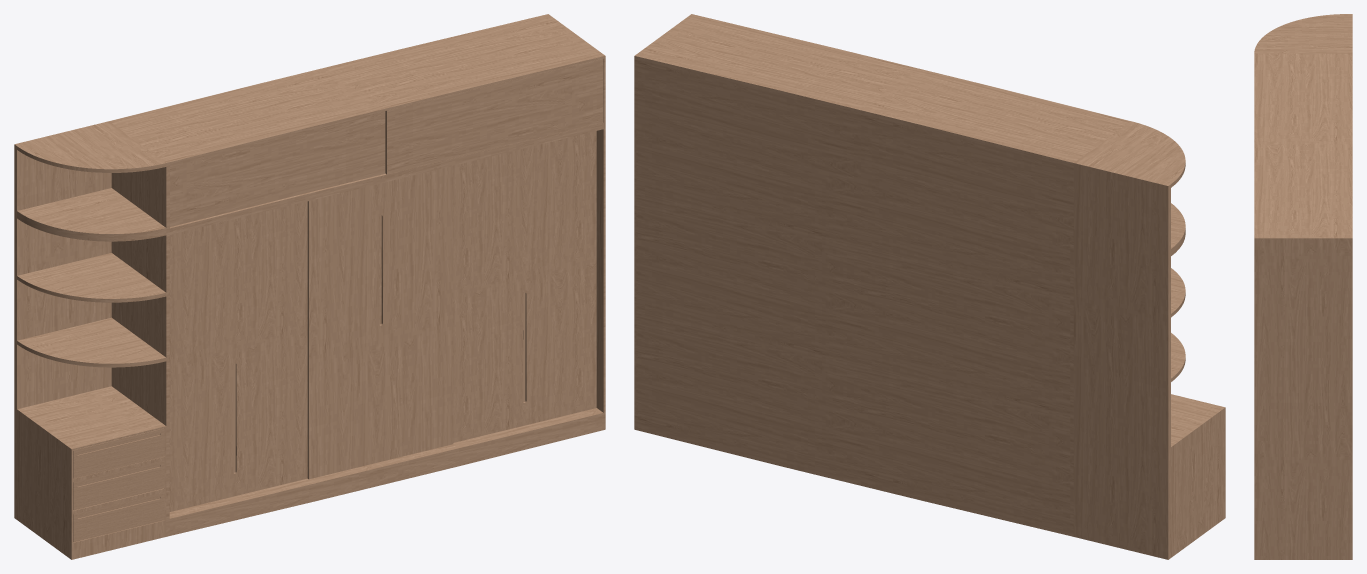
File: modern_wardrobe_system.glb
3 renders of one model, left to right at view 1: azimuth 30°, elevation 25°; view 2: azimuth 150°, elevation 25°; view 3: azimuth 270°, elevation 25°, orthographic. The views are drawn at different scales.
Visible parts, largest first — view 1: main frame, main door middle, main door right, main door left, upper door right, upper door left, shelf 1, shelf2, shelf3; view 2: main frame; view 3: main frame.
Part boxes in pixels (x1,y1,x2,y2): main frame: [14, 14, 605, 559]; main door middle: [307, 166, 453, 479]; main door right: [453, 131, 596, 442]; main door left: [169, 201, 307, 511]; upper door right: [385, 59, 602, 174]; upper door left: [170, 111, 385, 226]; shelf 1: [73, 428, 164, 478]; shelf2: [73, 460, 164, 510]; shelf3: [73, 492, 164, 542]; main frame: [634, 14, 1225, 559]; main frame: [1254, 14, 1352, 559].
Bounding box in the file's own units: 3.33 × 2.24 × 0.6181.
3 materials, 3 textured.
